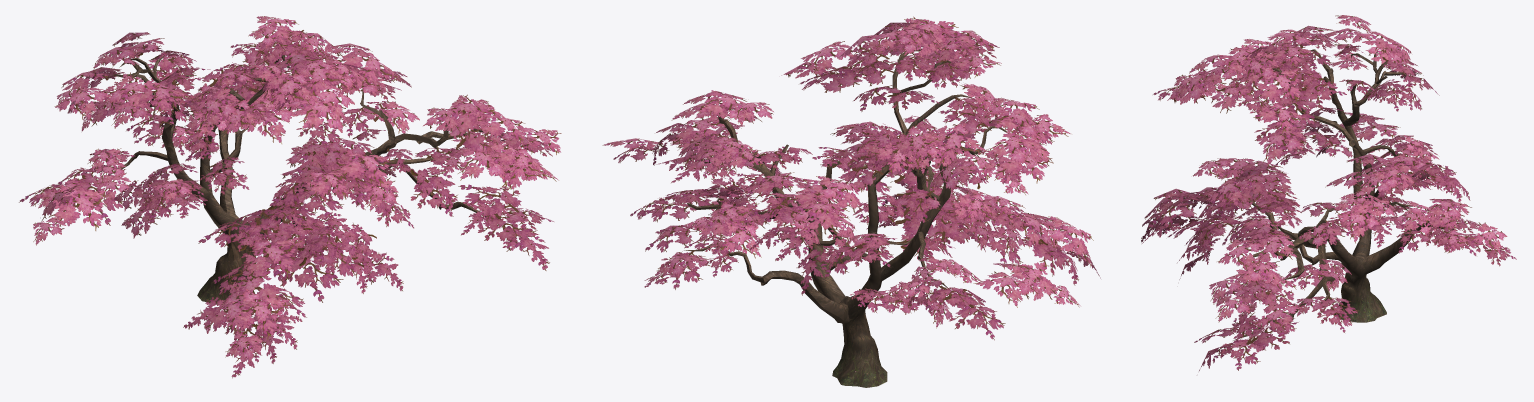
3 renders of one model, left to right at view 1: azimuth 30°, elevation 25°; view 2: azimuth 150°, elevation 25°; view 3: azimuth 270°, elevation 25°, orthographic. The views are drawn at different scales.
Parts seen in each view (by area): view 1: MS0003_08_01_01; view 2: MS0003_08_01_01; view 3: MS0003_08_01_01.
Part boxes in pixels (<box>): MS0003_08_01_01: <box>19,16,561,378</box>; MS0003_08_01_01: <box>602,16,1100,387</box>; MS0003_08_01_01: <box>1141,15,1516,370</box>.
Bounding box in the file's own units: 30.8 × 17.65 × 23.07.
